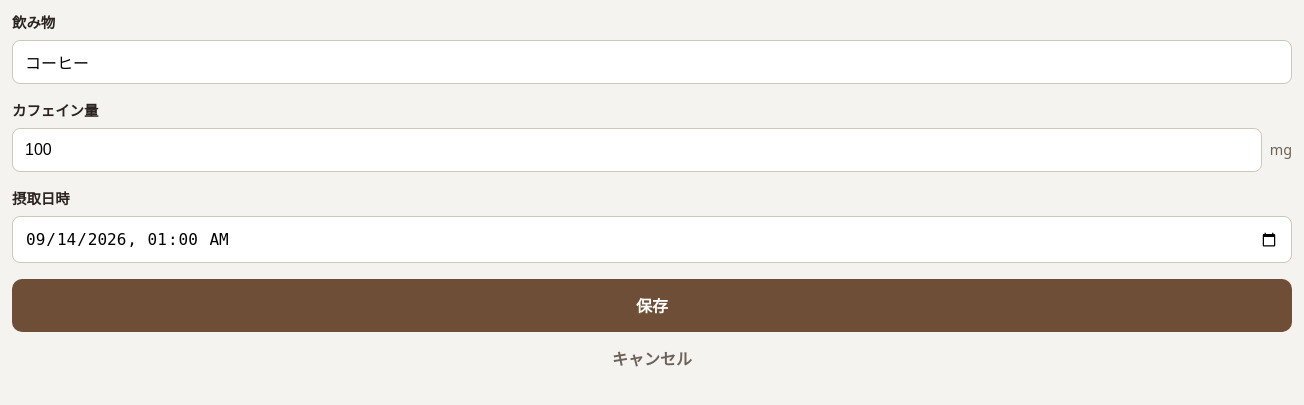
Scenario: EditRecordForm › TEST-618: 保存失敗時はエラーメッセージが表示され、入力内容が保持される
Type "紅茶" into the field labelled "飲み物" at (652, 62), box [12,40,1292,84]
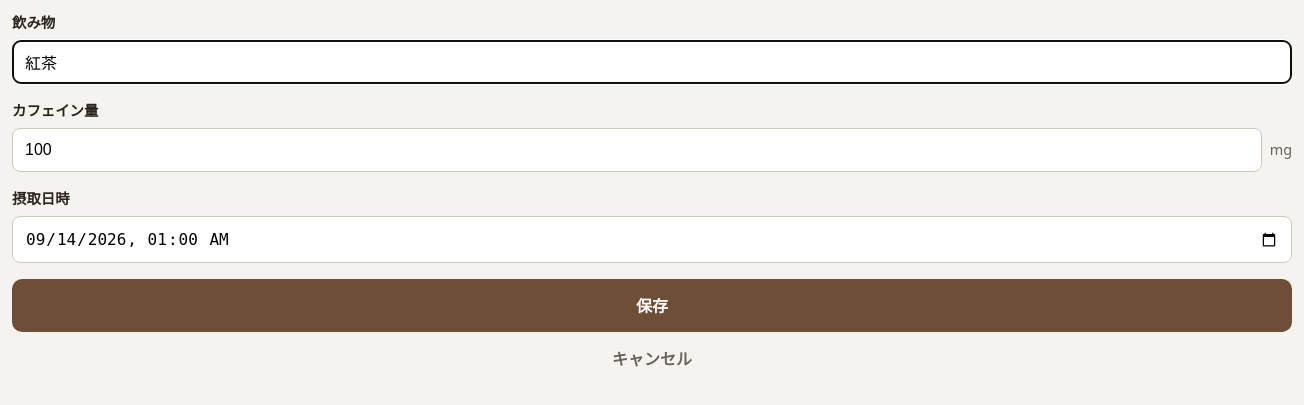
Click the button "保存" at (652, 305), box [12,279,1292,332]
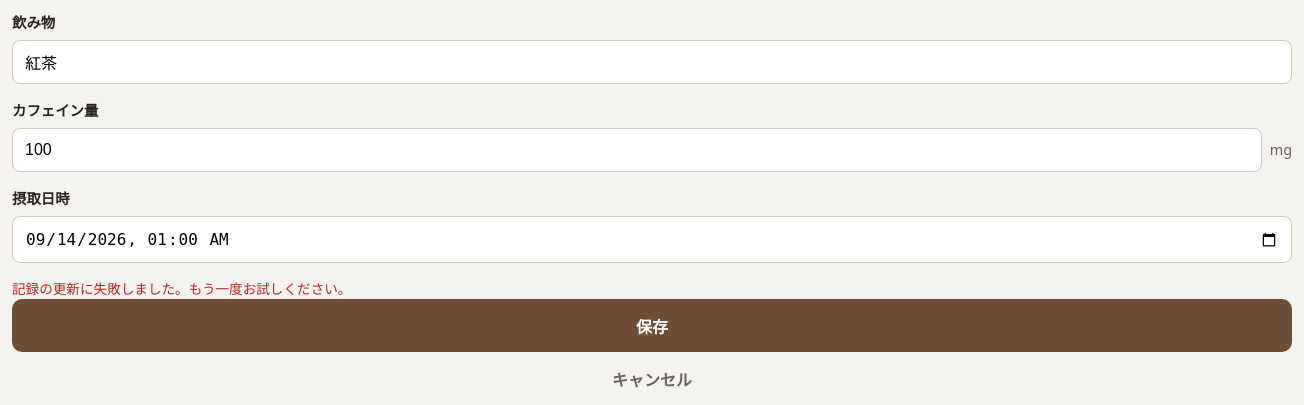
Check: the text "記録の更新に失敗しました。もう一度お試しください。" is shown, box [12,279,351,298]
